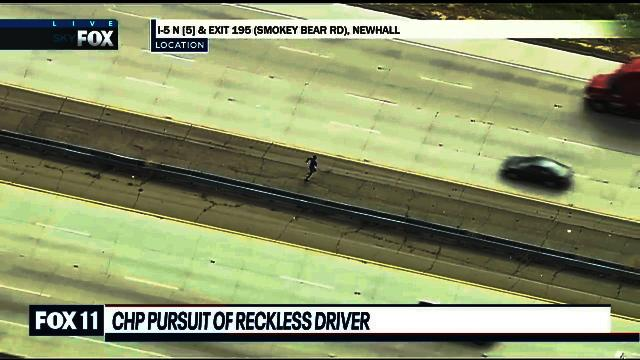berlari: (300, 152, 320, 184)
